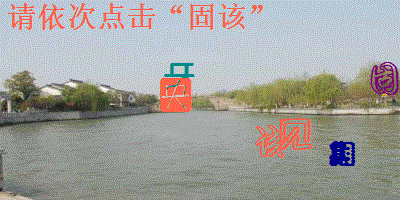text: (278, 118, 313, 152), (159, 77, 192, 112), (163, 62, 197, 95), (255, 124, 286, 160), (369, 61, 400, 97), (328, 141, 356, 168)
